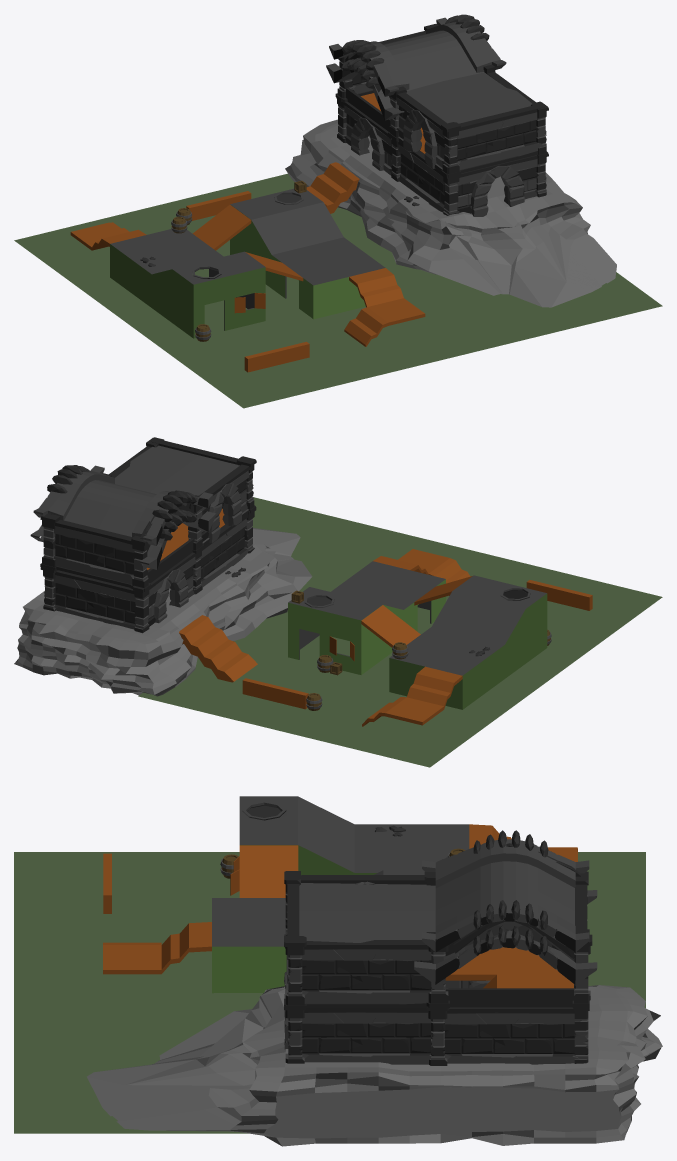
The model's file is double_building_castle.glb.
The picture shows the model from 3 angles, top to bottom: view 1: azimuth 30°, elevation 25°; view 2: azimuth 150°, elevation 25°; view 3: azimuth 270°, elevation 25°; orthographic projection. The views are drawn at different scales.
Visible parts, largest first — view 1: Plane.002, Cube, House1 -col, House2 -col, Cube.006, Cube.001 (×5), wall with arch.012 (×3), Sphere, Cube.005; view 2: Plane.002, Cube, House2 -col, Cube.001 (×5), Cube.006, House1 -col, wall with arch.012 (×2), Cube.005, Sphere, spare pillar1; view 3: Plane.002, Cube, Cube.001 (×7), Cube.006, House1 -col, House2 -col, Sphere, spare pillar1 (×2), wall with arch.012, Cube.011.
Boxes of the visible parts, x1,y1,x2,y2 form: Plane.002: (14, 173, 662, 408); Cube: (285, 119, 616, 307); House1 -col: (230, 188, 425, 346); House2 -col: (70, 204, 265, 338); Cube.006: (326, 17, 531, 153); Cube.001 (×5): (186, 31, 548, 372); wall with arch.012 (×3): (335, 86, 539, 216); Sphere: (341, 14, 489, 88); Cube.005: (306, 162, 359, 213); Plane.002: (138, 497, 662, 767); Cube: (14, 528, 312, 696); House2 -col: (361, 575, 547, 726); Cube.001 (×5): (40, 438, 592, 709); Cube.006: (30, 445, 239, 582); House1 -col: (288, 549, 472, 674); wall with arch.012 (×2): (133, 464, 249, 633); Cube.005: (179, 615, 257, 682); Sphere: (47, 465, 196, 540); spare pillar1: (40, 513, 60, 570); Plane.002: (14, 852, 645, 1133); Cube: (87, 985, 662, 1146); Cube.001 (×7): (103, 853, 589, 1065); Cube.006: (299, 839, 597, 1007); House1 -col: (103, 845, 424, 993); House2 -col: (230, 796, 577, 895); Sphere: (473, 830, 548, 955); spare pillar1 (×2): (426, 929, 589, 1007); wall with arch.012: (301, 872, 435, 885); Cube.011: (445, 920, 574, 961).
Size of the model in its own units: 66.78 by 25.75 by 63.39.
